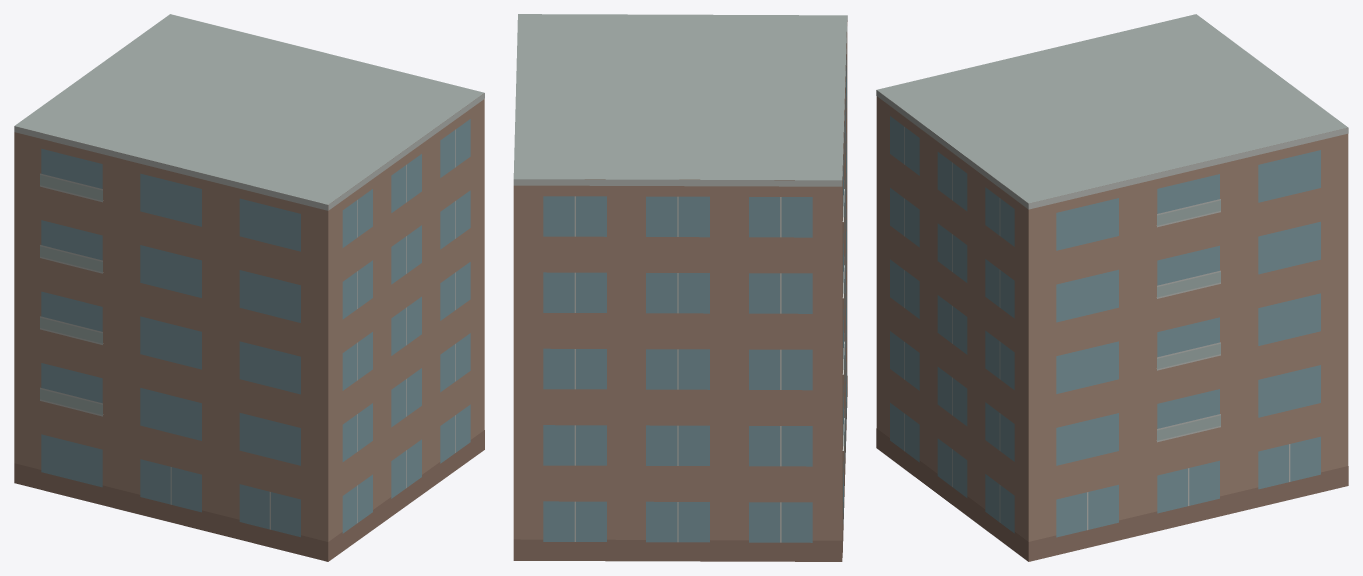
File: survey-upis-33029922.glb
3 views of the same model, side by side, from view 1: azimuth 30°, elevation 25°; view 2: azimuth 150°, elevation 25°; view 3: azimuth 270°, elevation 25° (orthographic). The views are drawn at different scales.
Parts seen in each view (by area): view 1: survey-upis-33029922.tmp; view 2: survey-upis-33029922.tmp; view 3: survey-upis-33029922.tmp.
Part boxes in pixels (box(x1,y1,x2,y2)): survey-upis-33029922.tmp: box(14, 14, 484, 561); survey-upis-33029922.tmp: box(513, 14, 847, 561); survey-upis-33029922.tmp: box(876, 14, 1348, 561).
Bounding box in the file's own units: 16.46 × 14.5 × 17.32.
